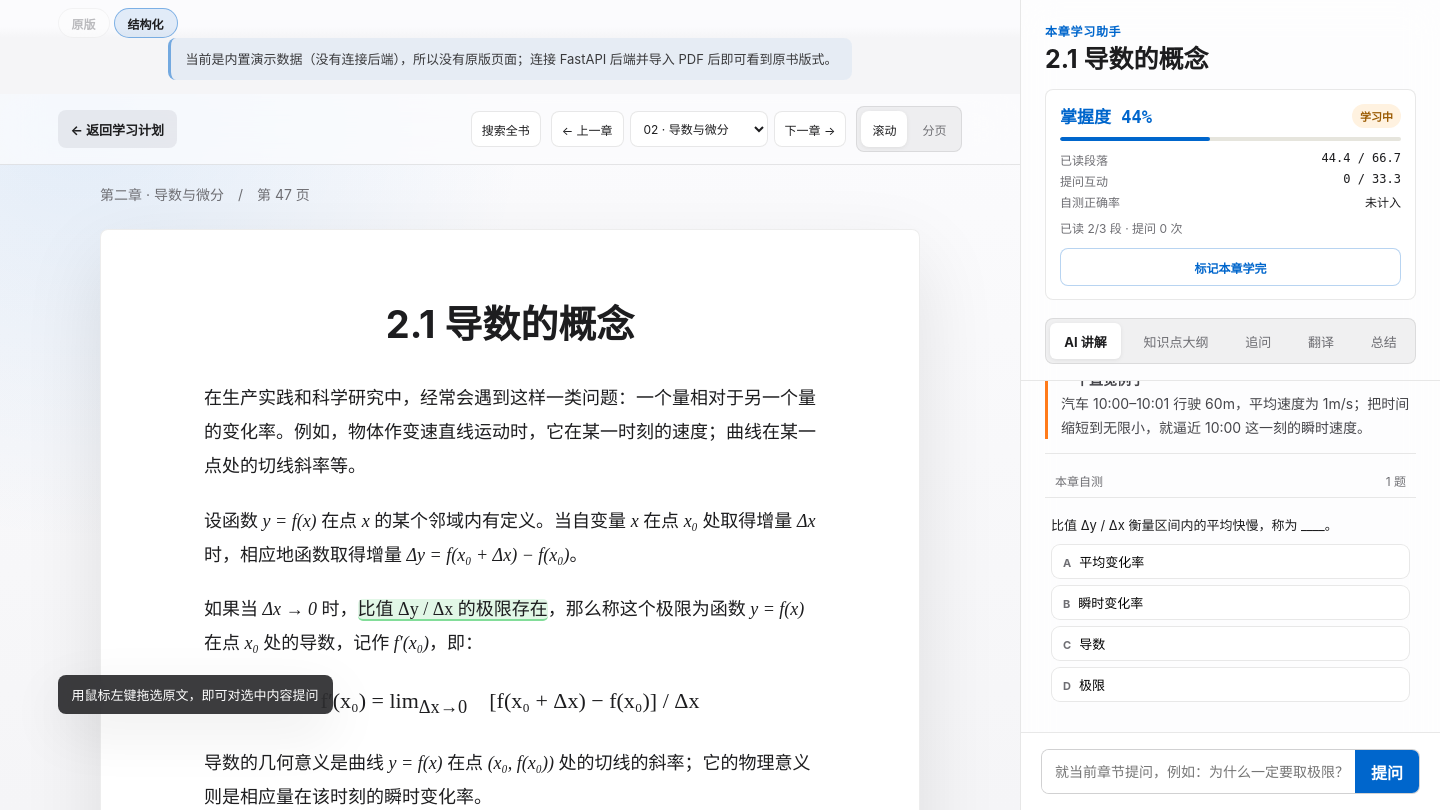
it: 章末自测 › 答错时告诉用户正确答案
This screenshot has width=1440, height=810.
(page scrolled)
Click the button with test id "quiz-option-ch2-q1-2" at (1067, 645), box [1051,626,1410,662]
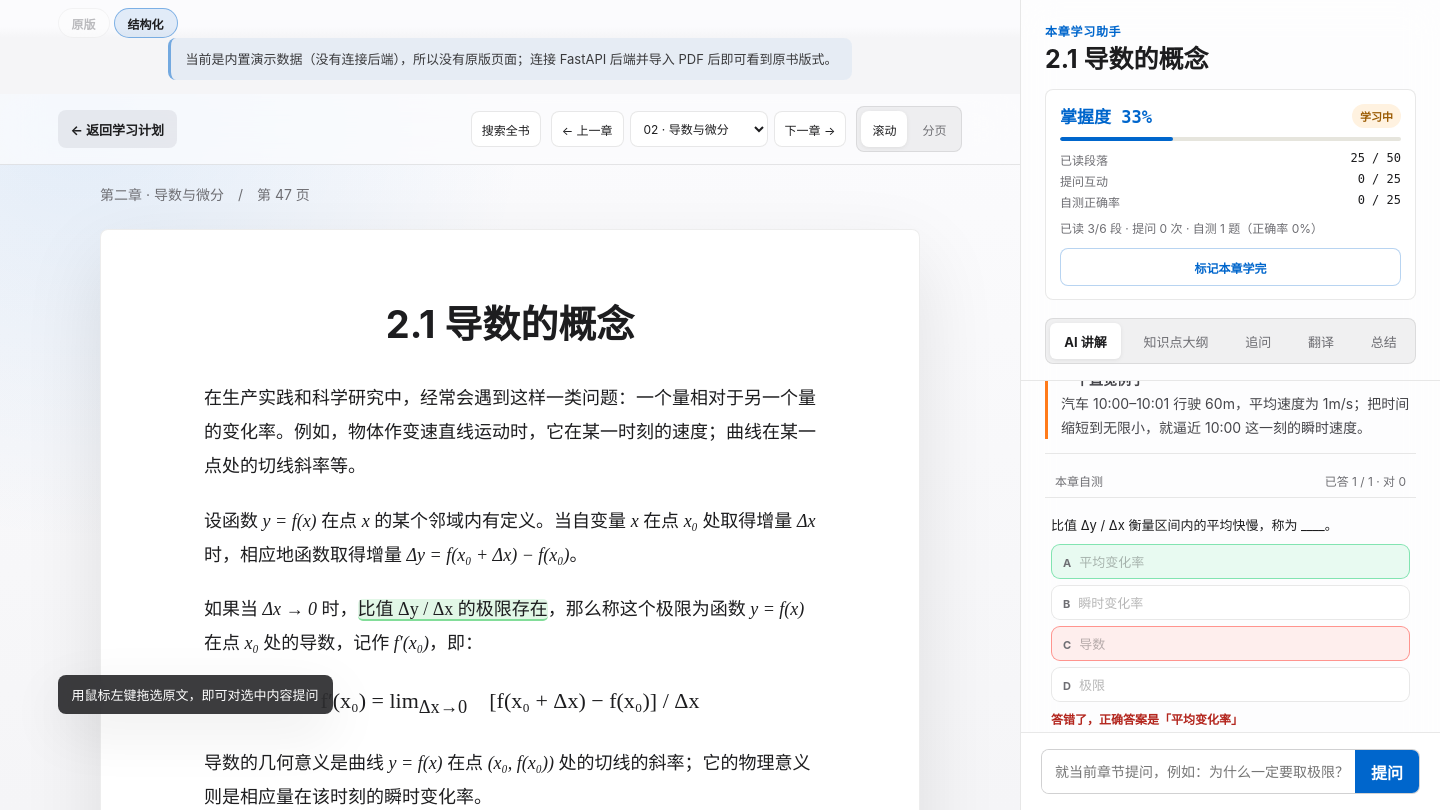
expect the text with test id "quiz-verdict-ch2-q1" reads "答错了，正确答案是「平均变化率」": met, box [1051,712,1243,728]
